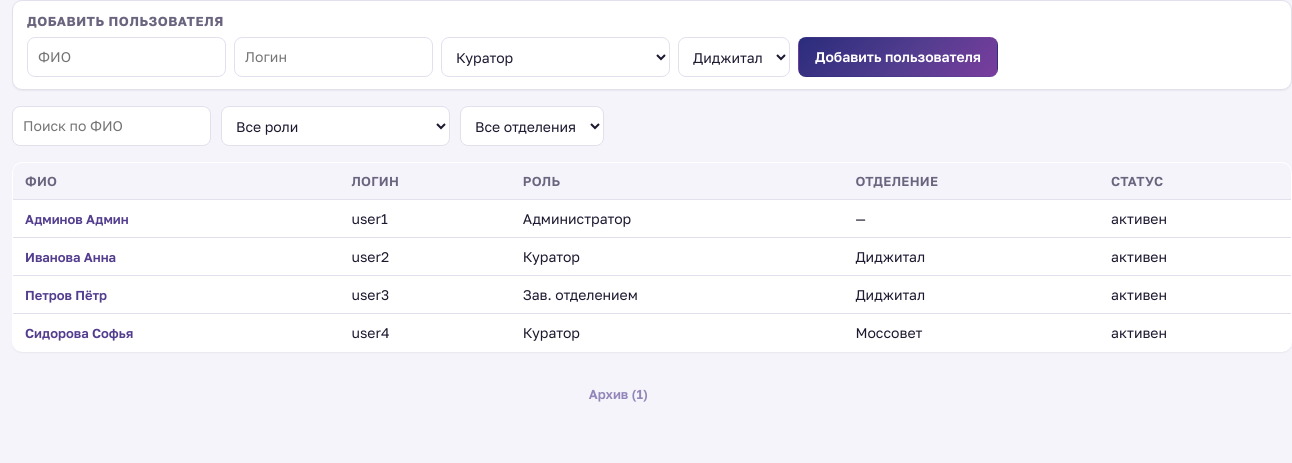
Test: UsersTab — список › показывает ФИО, логин, роль, отделение и статус; архивные скрыты под кнопкой
Expected: the link "Иванова Анна" is shown, [21,247,120,267]
Expected: the text "user2" is shown, [339,238,511,276]
Click the button "Архив (1)" at (618, 394), box [585,384,652,404]
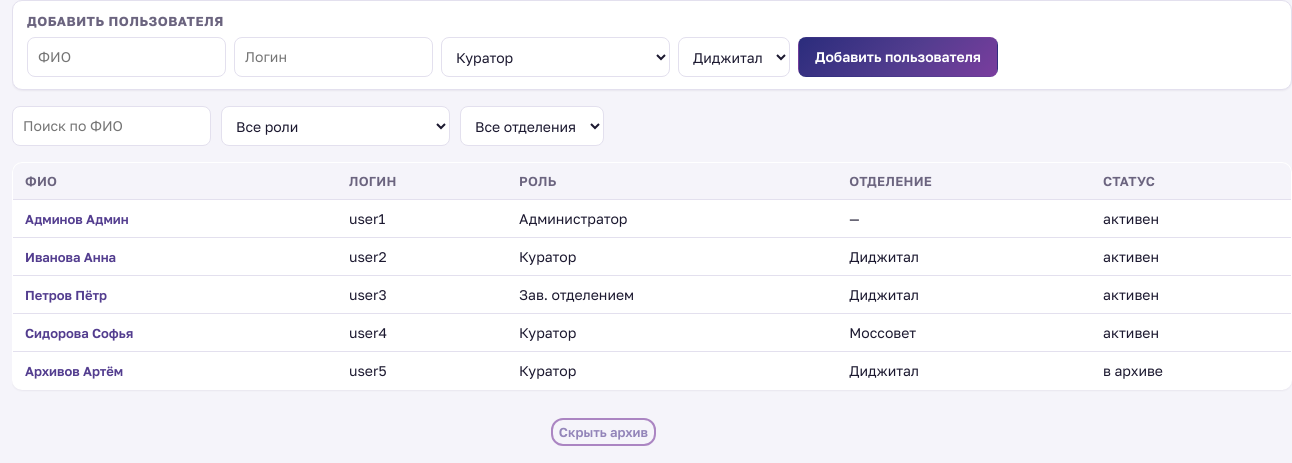
Expected: the text "в архиве" is shown, [1091,352,1291,390]
